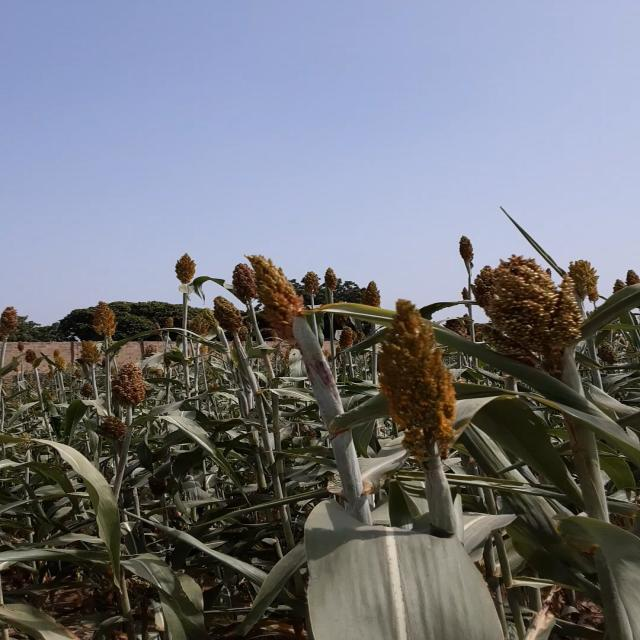UnripeSorghum: (332, 294, 510, 474)
